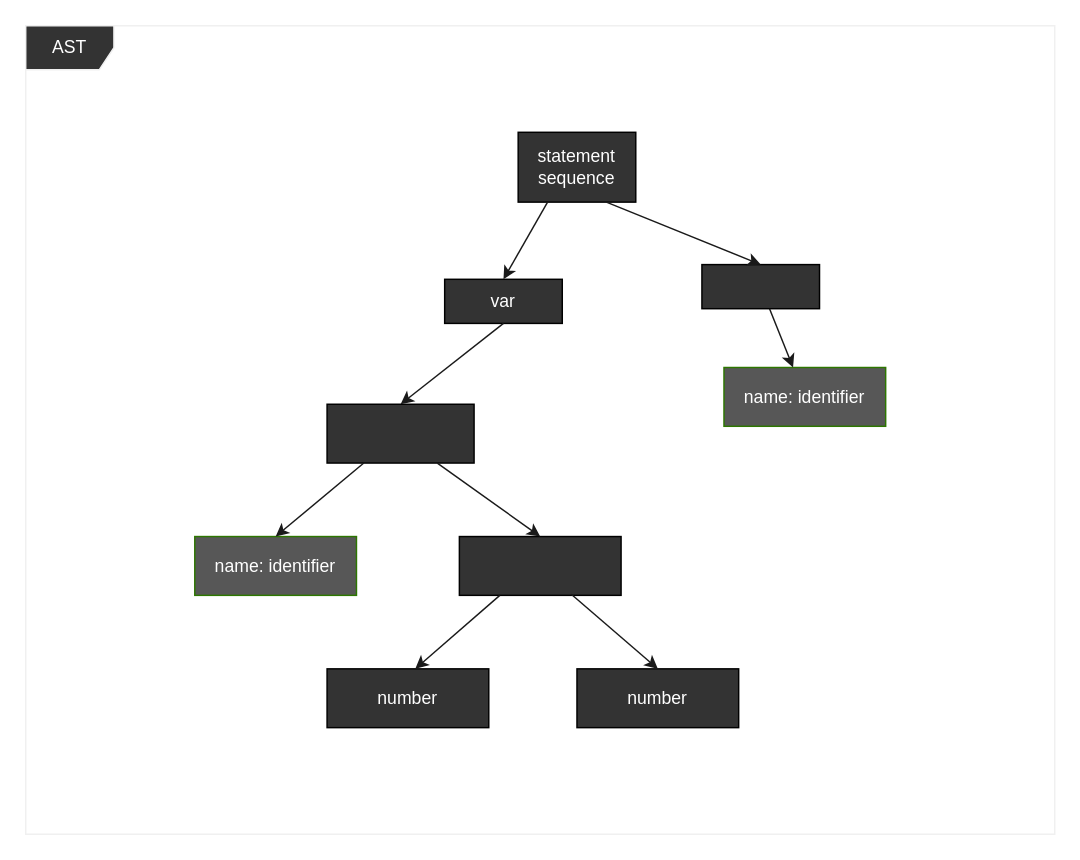
The diagram is 1080 pixels wide and 860 high, and some of its shapes have lost their labels. Each missing label, with the centre of its shape:
adittion: the point at 539,565
assignement: the point at 400,433
print: the point at 760,286
